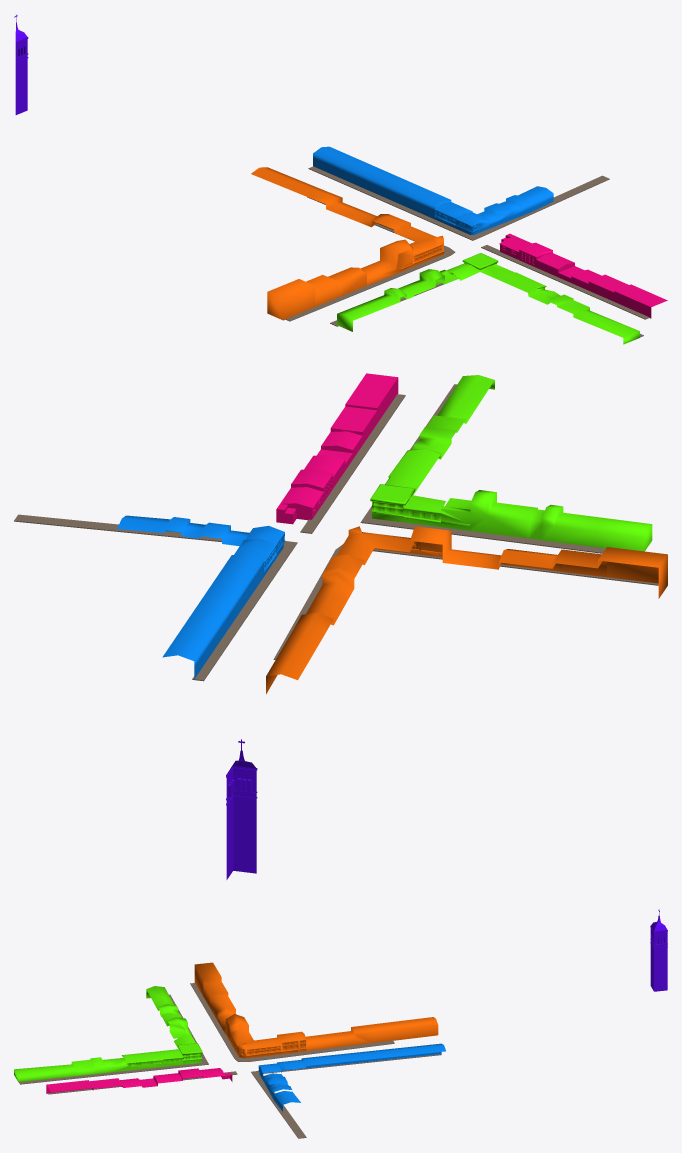
Rendered from StreetBuildingsFixed.fbx.
3 renders of one model, top to bottom at view 1: azimuth 30°, elevation 25°; view 2: azimuth 150°, elevation 25°; view 3: azimuth 270°, elevation 25°, orthographic. The views are drawn at different scales.
Visible parts, largest first — view 1: Street_01 (×6); view 2: Street_01 (×6); view 3: Street_01 (×6).
Boxes of the visible parts, left/top/right/bottom form: Street_01 (×6): left=14, top=14, right=667, bottom=344; Street_01 (×6): left=14, top=373, right=667, bottom=879; Street_01 (×6): left=14, top=909, right=667, bottom=1138.
Bounding box in the file's own units: 54019 × 12564 × 94275.
